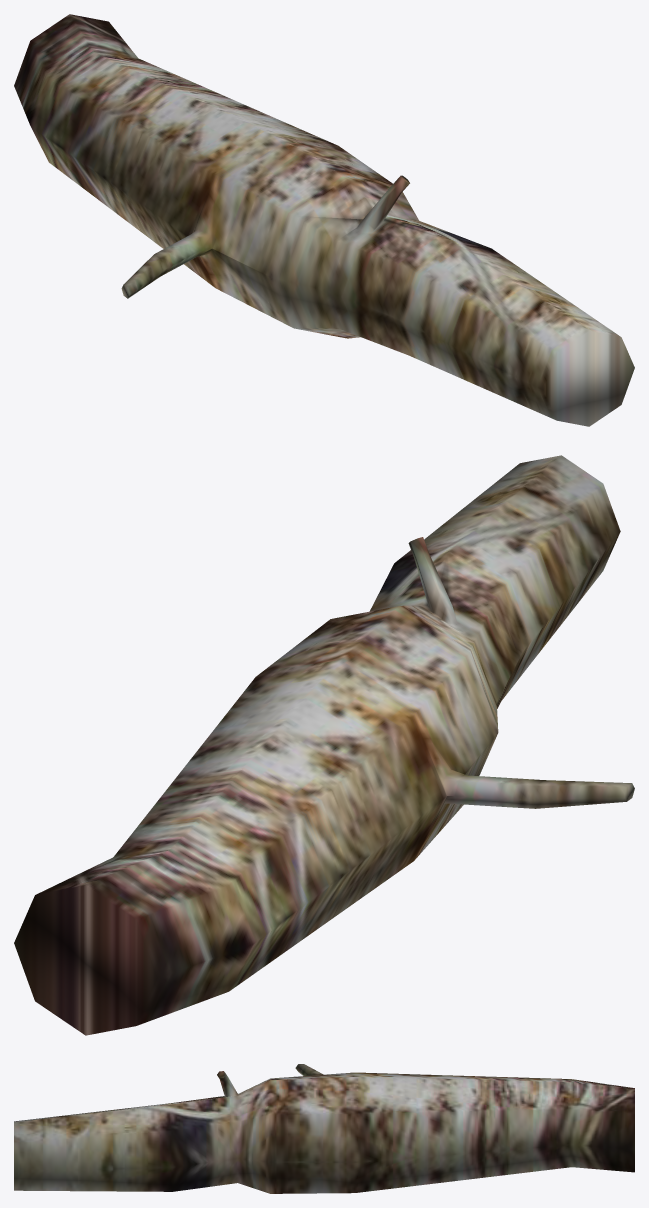
File: Hemlock.fbx
The picture shows the model from 3 angles, top to bottom: view 1: azimuth 30°, elevation 25°; view 2: azimuth 150°, elevation 25°; view 3: azimuth 270°, elevation 25°; orthographic projection. The views are drawn at different scales.
Parts seen in each view (by area): view 1: Group1; view 2: Group1; view 3: Group1.
Part boxes in pixels (box(x1,y1,x2,y2)): Group1: box(14, 14, 634, 426); Group1: box(14, 455, 634, 1035); Group1: box(14, 1064, 634, 1193).
Size of the model in its own units: 13.94 by 8 by 35.29.
